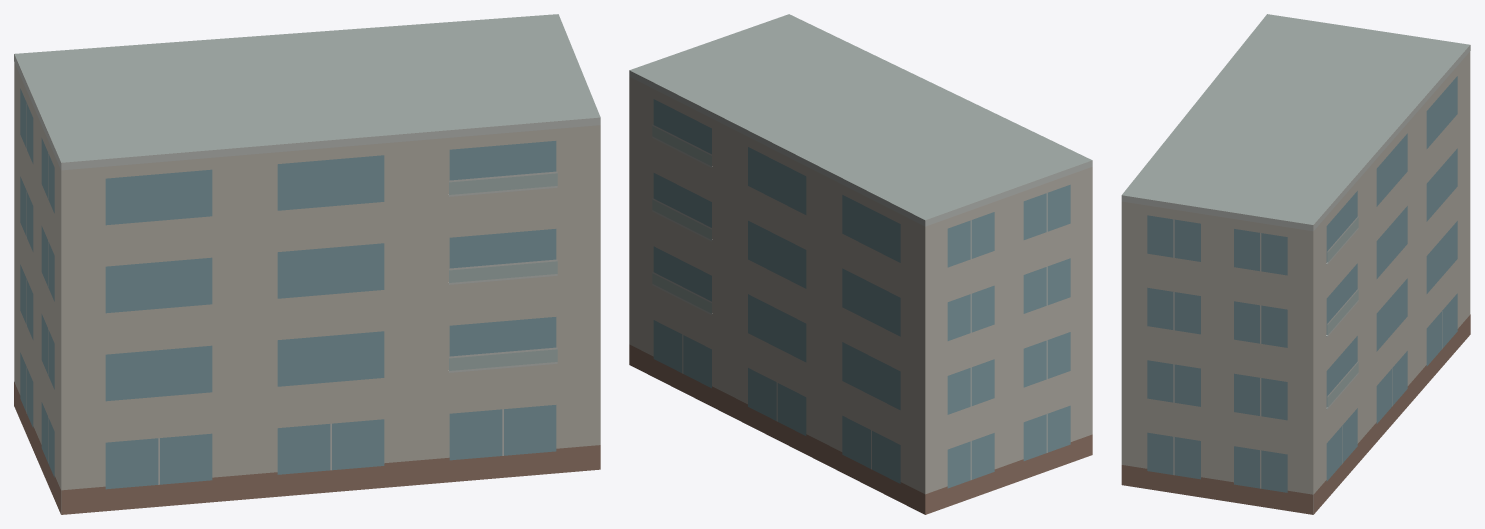
The model's file is survey-upis-32889828.glb.
3 renders of one model, left to right at view 1: azimuth 30°, elevation 25°; view 2: azimuth 150°, elevation 25°; view 3: azimuth 270°, elevation 25°, orthographic. The views are drawn at different scales.
Parts seen in each view (by area): view 1: survey-upis-32889828.tmp; view 2: survey-upis-32889828.tmp; view 3: survey-upis-32889828.tmp.
Boxes of the visible parts, x1,y1,x2,y2 form: survey-upis-32889828.tmp: (14,14,600,514); survey-upis-32889828.tmp: (629,14,1092,514); survey-upis-32889828.tmp: (1121,14,1470,514).
Size of the model in its own units: 17.66 by 11.3 by 12.34.
